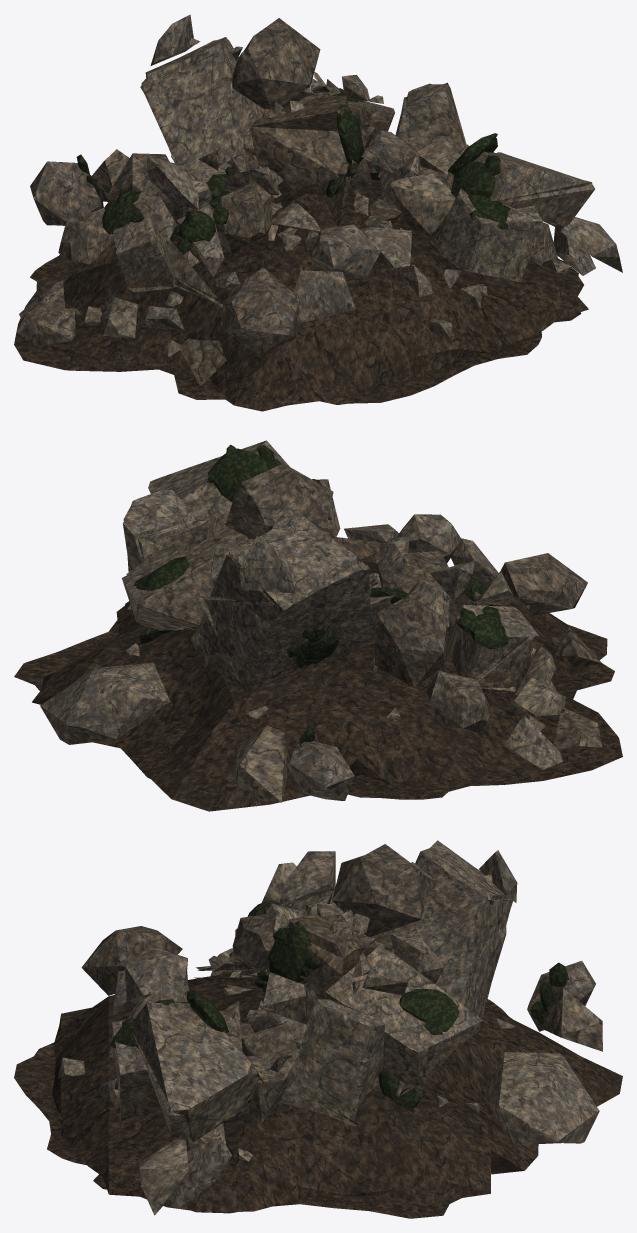
The model's file is SM_Cripta_Entulho.glb.
3 renders of one model, top to bottom at view 1: azimuth 30°, elevation 25°; view 2: azimuth 150°, elevation 25°; view 3: azimuth 270°, elevation 25°, orthographic. The views are drawn at different scales.
Parts seen in each view (by area): view 1: SM_Cripta_Entulho; view 2: SM_Cripta_Entulho; view 3: SM_Cripta_Entulho.
Boxes of the visible parts, x1,y1,x2,y2 form: SM_Cripta_Entulho: (14,14,622,411); SM_Cripta_Entulho: (14,440,622,811); SM_Cripta_Entulho: (14,840,622,1218).
Size of the model in its own units: 2.22 by 0.9245 by 2.07.
Materials: 4 (4 with a texture image).
